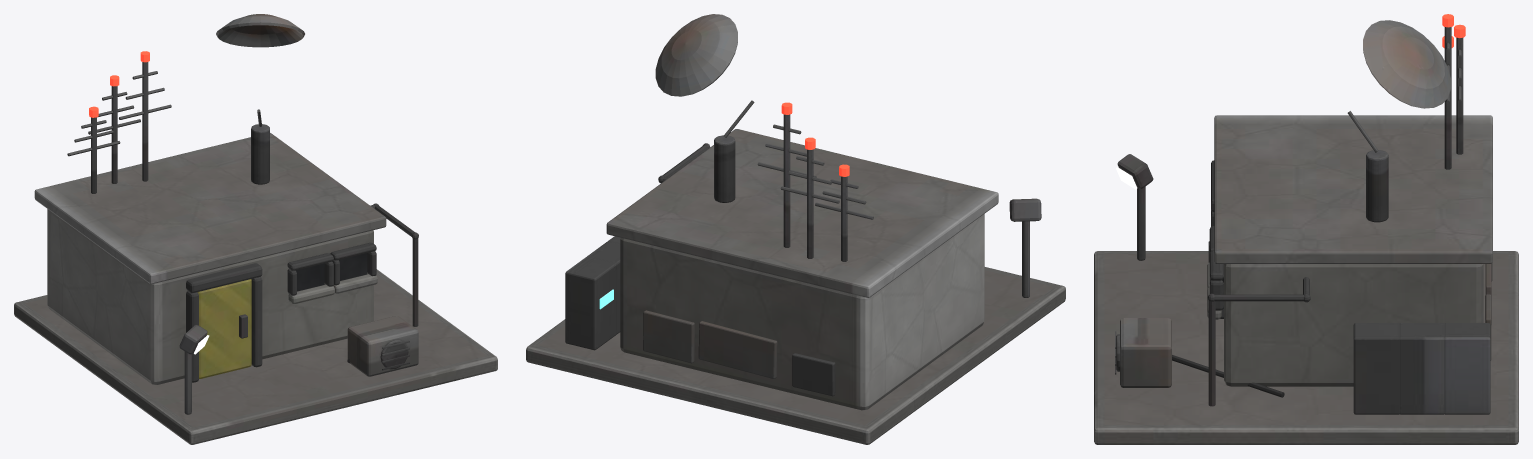
File: home-research.glb
3 views of the same model, side by side, from view 1: azimuth 30°, elevation 25°; view 2: azimuth 150°, elevation 25°; view 3: azimuth 270°, elevation 25° (orthographic). The views are drawn at different scales.
Visible parts, largest first — view 1: wh_research; view 2: wh_research, wh_research_lights; view 3: wh_research, wh_research_lights.
Part boxes in pixels (x1,y1,x2,y2): wh_research: (14, 14, 497, 444); wh_research: (526, 14, 1065, 444); wh_research_lights: (599, 102, 849, 309); wh_research: (1094, 20, 1518, 444); wh_research_lights: (1116, 14, 1465, 189).
Size of the model in its own units: 1.8 by 1.64 by 1.8.
Materials: 4 (1 with a texture image).
